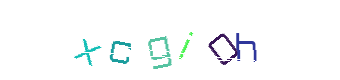0: (183, 0, 263, 80)
C: (119, 0, 199, 80)
G: (129, 0, 209, 80)
H: (199, 0, 279, 80)
I: (131, 0, 211, 80)
X: (65, 0, 145, 80)
